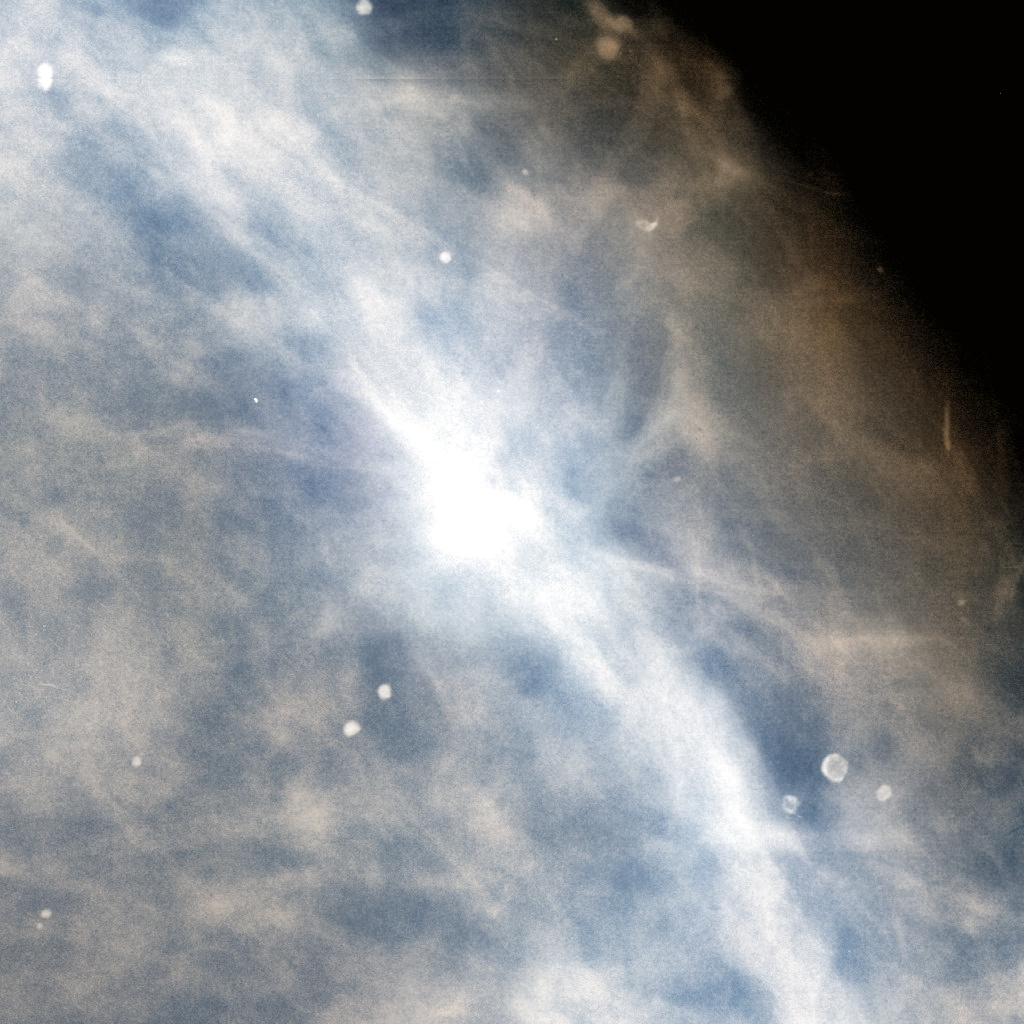tumor: (344, 344, 680, 680)
